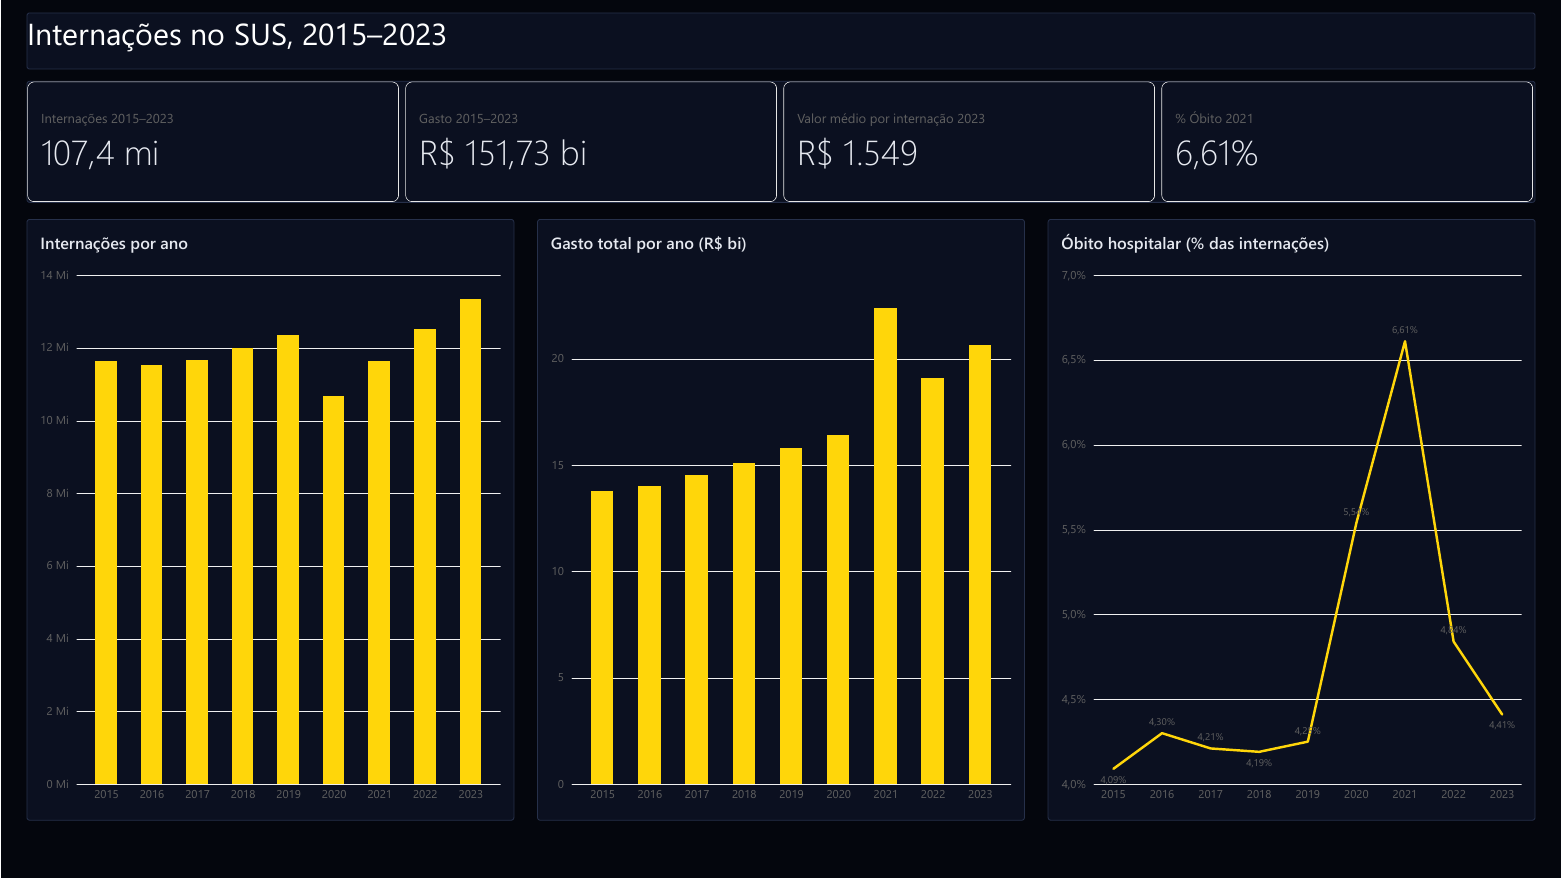

Layout of this report page (visuals, bound fields, positions):
{"tool":"powerbi","page":{"name":"Visão geral","canvas":[1920,1080],"ordinal":0},"visuals":[{"type":"cardVisual","fields":{"Data":["visao_anual.Internações 2015–2023","visao_anual.Gasto 2015–2023","visao_anual.Valor médio por internação 2023","visao_anual.% Óbito 2021"]},"box":[32,100,1856,150],"z":0},{"type":"clusteredColumnChart","title":"Internações por ano","fields":{"Category":["visao_anual.ano"],"Y":["visao_anual.Internações"]},"box":[32,270,600,740],"z":1},{"type":"clusteredColumnChart","title":"Gasto total por ano (R$ bi)","fields":{"Category":["visao_anual.ano"],"Y":["visao_anual.Gasto (R$ bi)"]},"box":[660,270,600,740],"z":2},{"type":"lineChart","title":"Óbito hospitalar (% das internações)","fields":{"Category":["visao_anual.ano"],"Y":["visao_anual.% Óbito"]},"box":[1288,270,600,740],"z":3},{"type":"textbox","box":[32,16,1856,70],"z":4}]}

Visuals, with their boxes in screenshot pixels (x1, y1, x2, y2), scaled from the page's 1920x1080 canvas onto the 1561x878 screenshot:
cardVisual - visao_anual.Internações 2015–2023 x visao_anual.Gasto 2015–2023: 26/81/1535/203
"Internações por ano" clusteredColumnChart: 26/220/514/821
"Gasto total por ano (R$ bi)" clusteredColumnChart: 537/220/1024/821
"Óbito hospitalar (% das internações)" lineChart: 1047/220/1535/821
textbox: 26/13/1535/70
